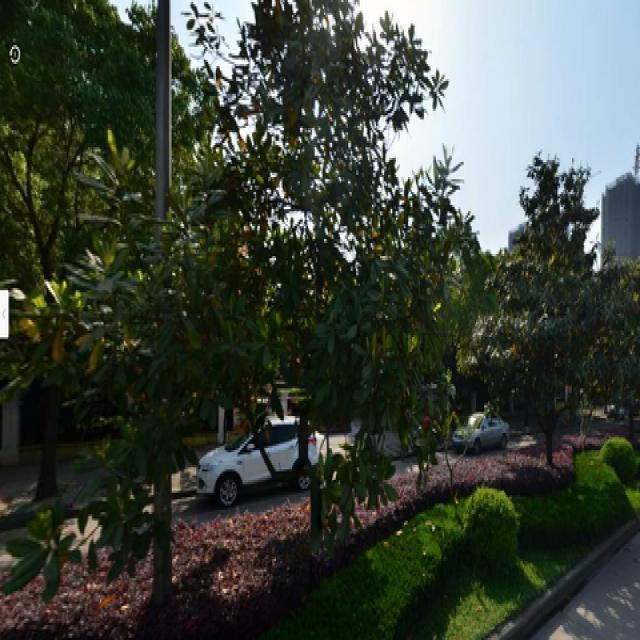magn: (61, 2, 475, 536)
